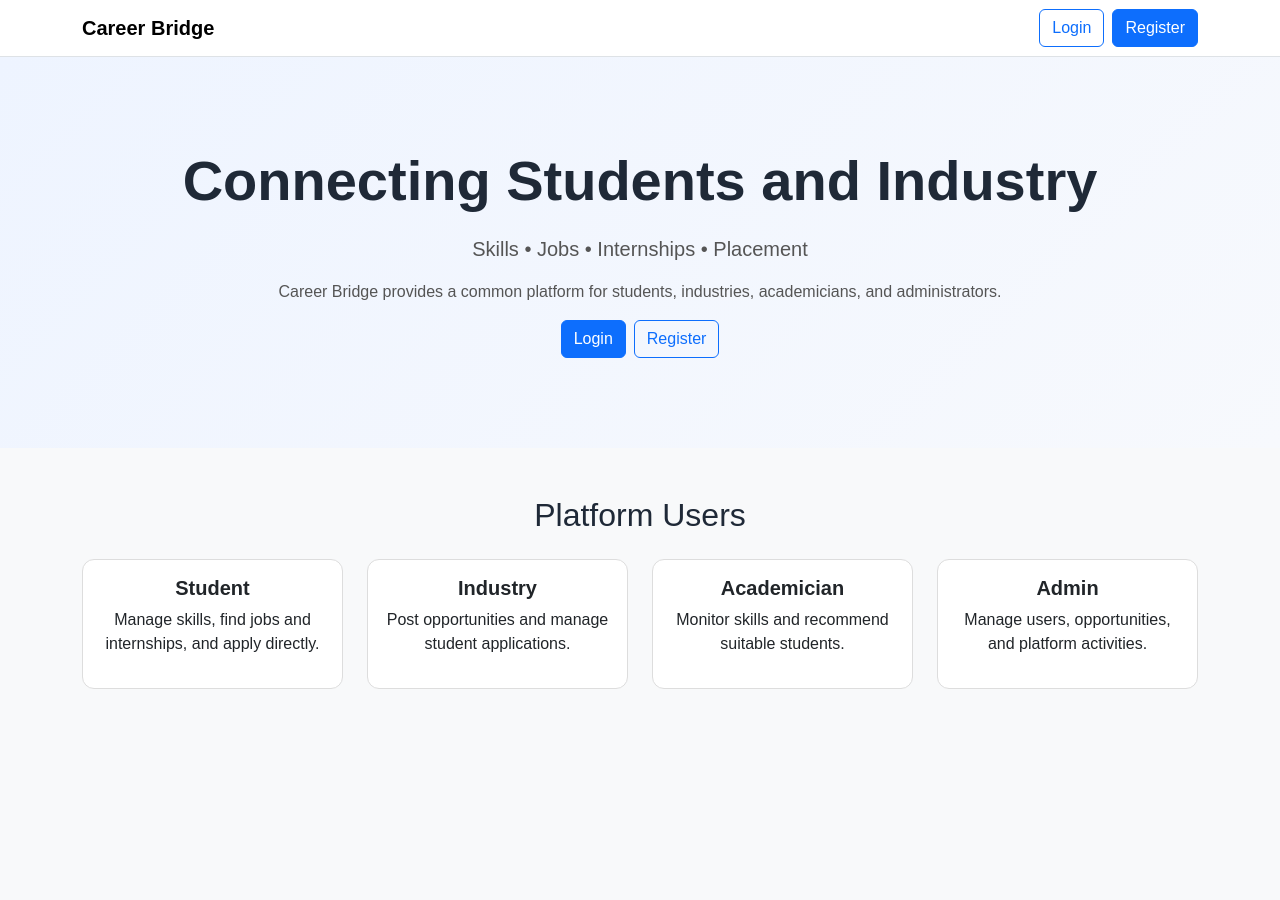
Test case: login flow against the backend response shape › industry user sees posting tools instead of the student profile
This screenshot has width=1280, height=900.
Step 1. Click the 1st button "Login" → [1072, 28], box [1039,9,1104,47]
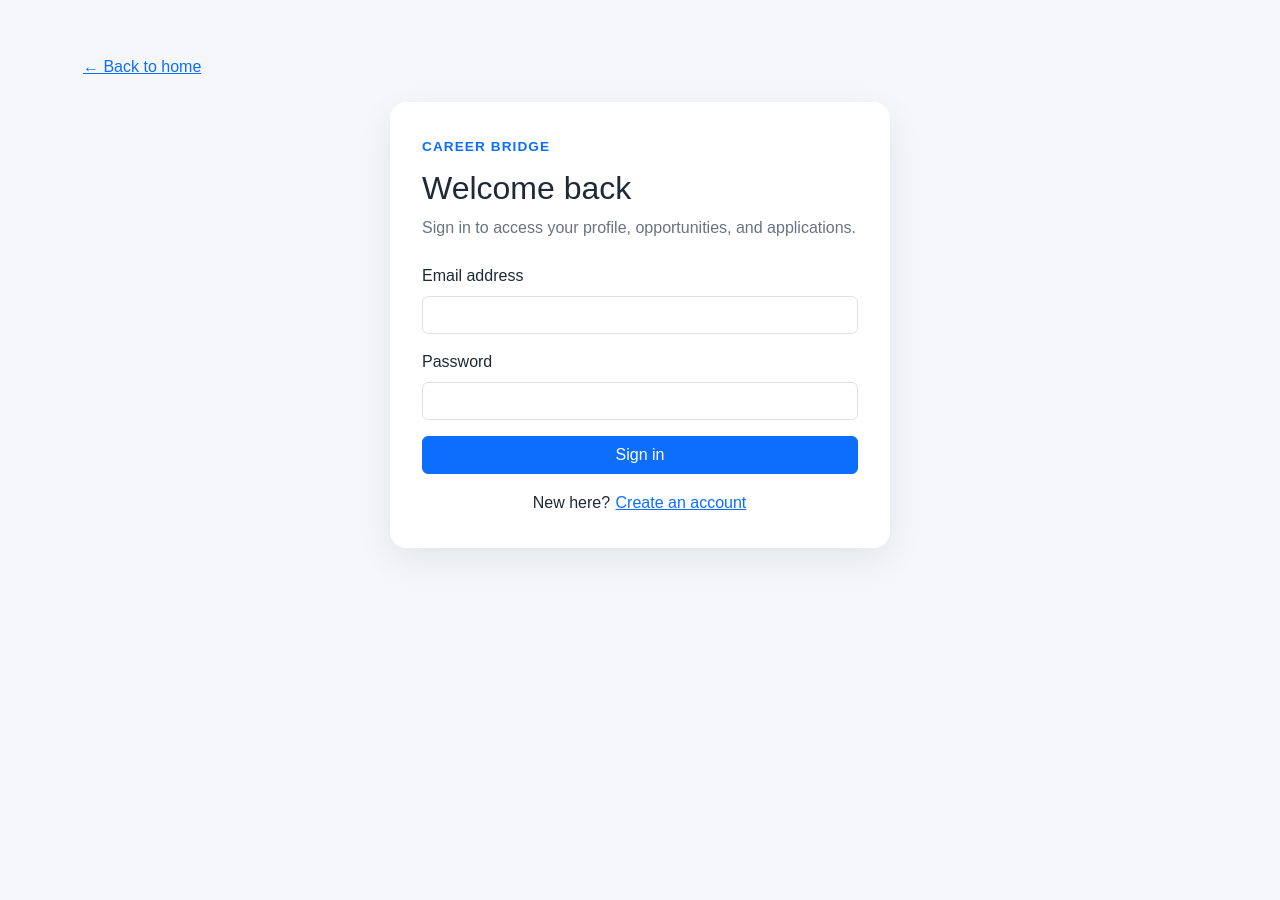
Step 2. Type "user@example.com" into the field labelled "Email address" → [640, 315], box [422,296,858,334]
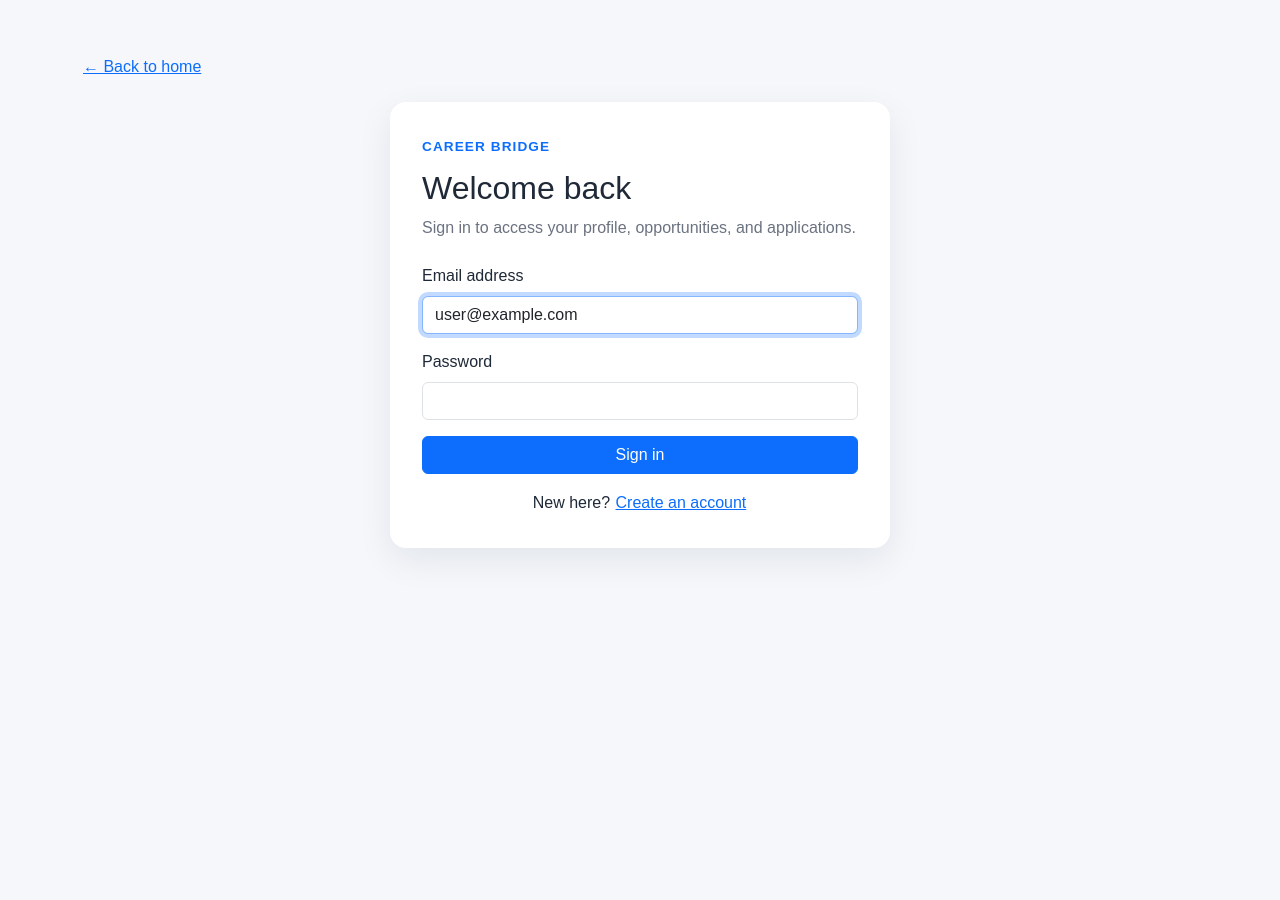
Step 3. Type "secret1" into the password field labelled "Password" → [640, 401], box [422,382,858,420]
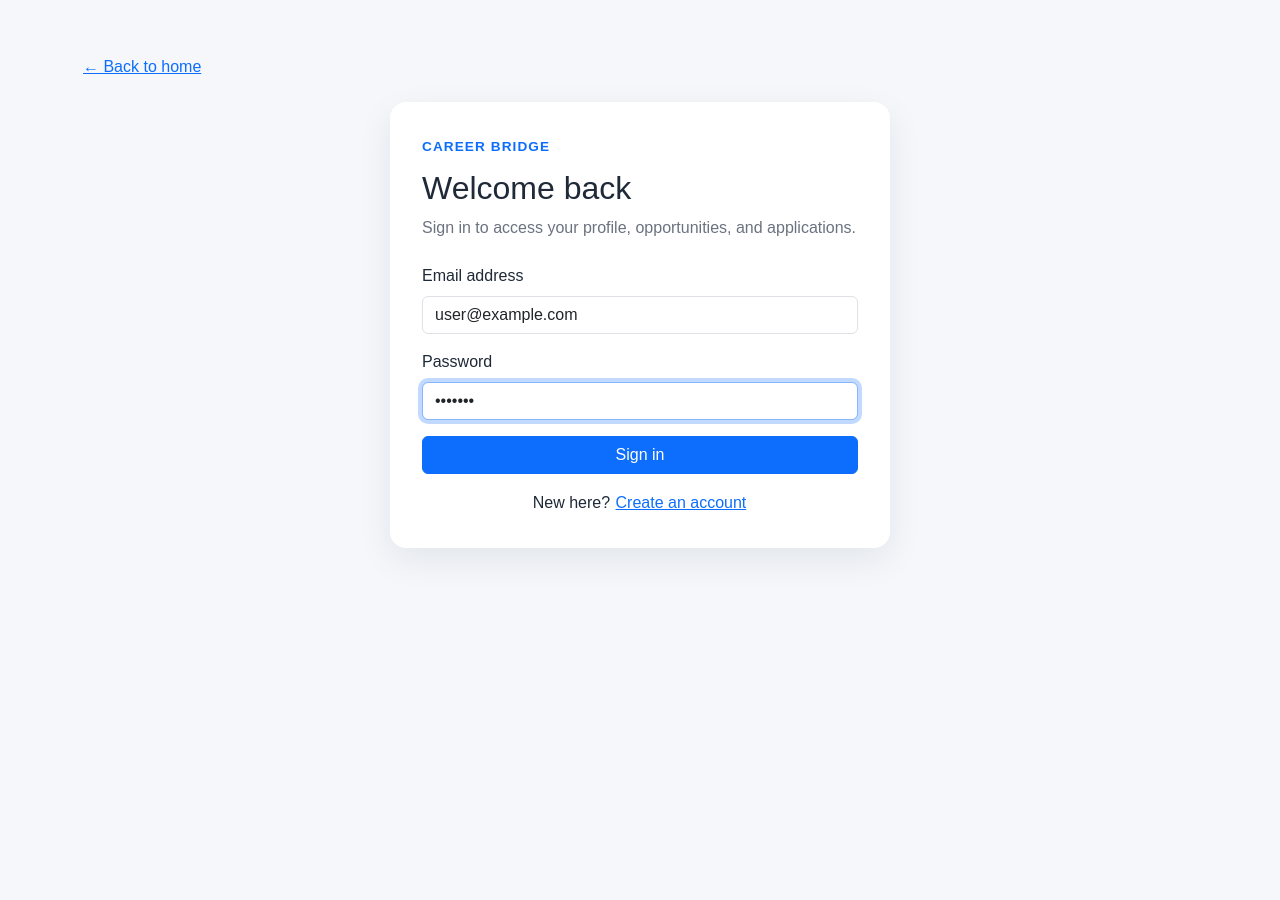
Step 4. Click the button "Sign in" → [640, 455], box [422,436,858,474]
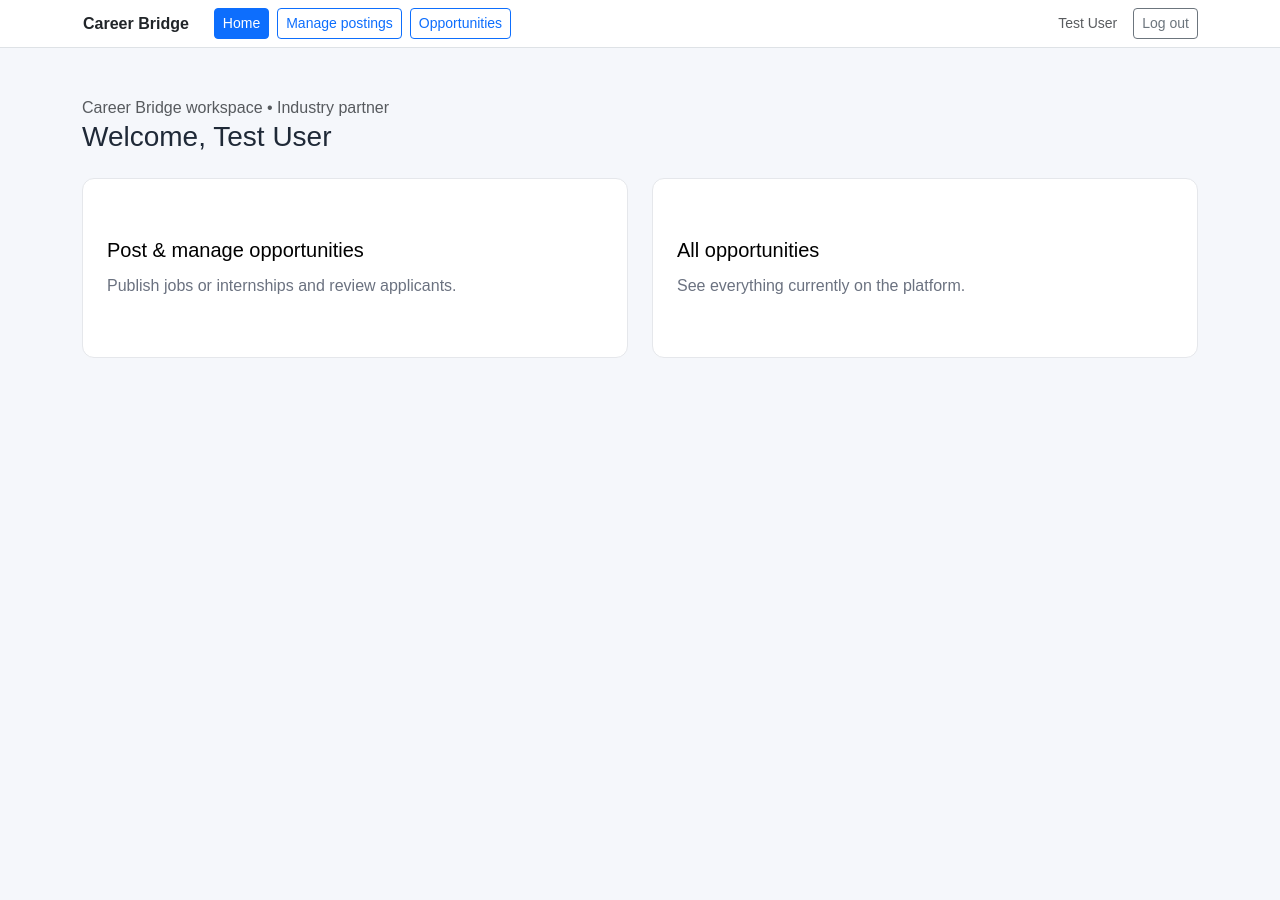
Now the button "Post & manage opportunities" is shown, box [82,178,628,358]
